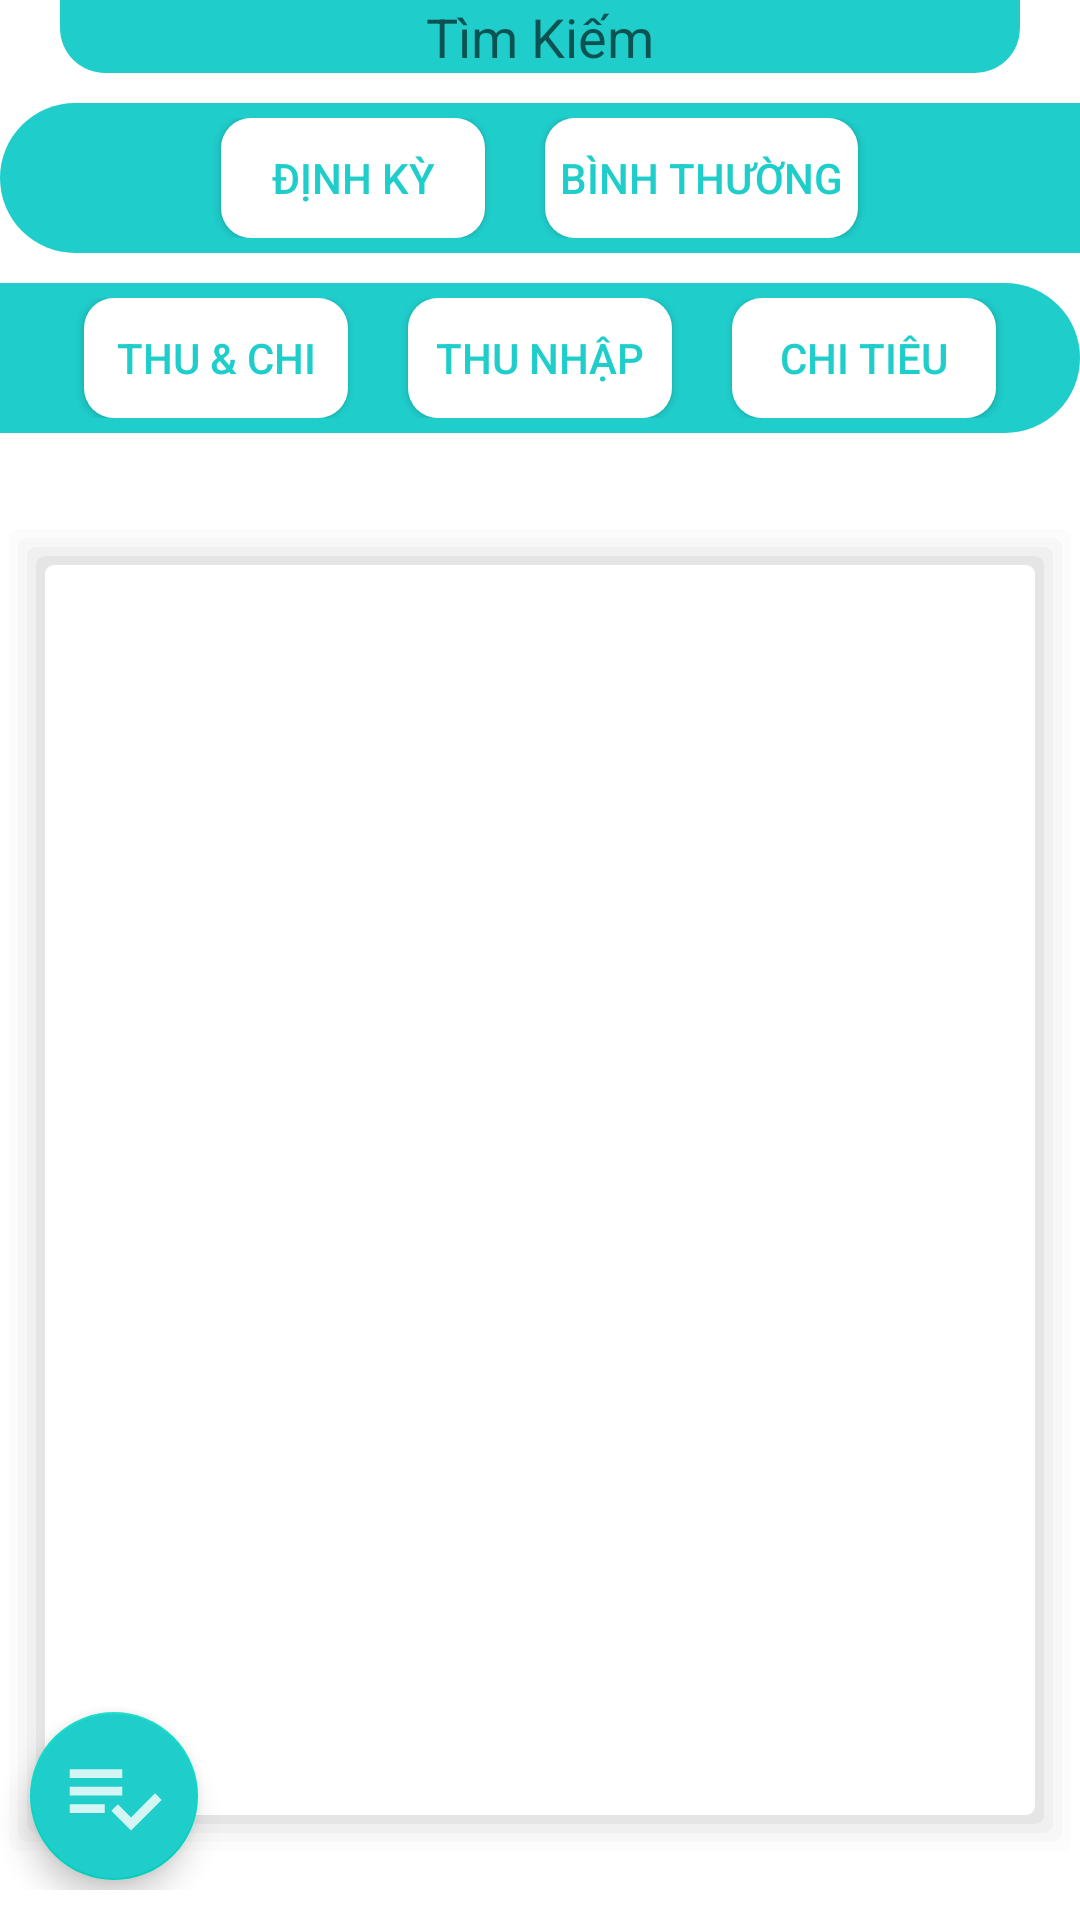

Locate icon controls on the screen. Image size 1080px×1920px, boxes as bbox(x1, y1, x2, y2).
history select: bbox(30, 1712, 198, 1880)
